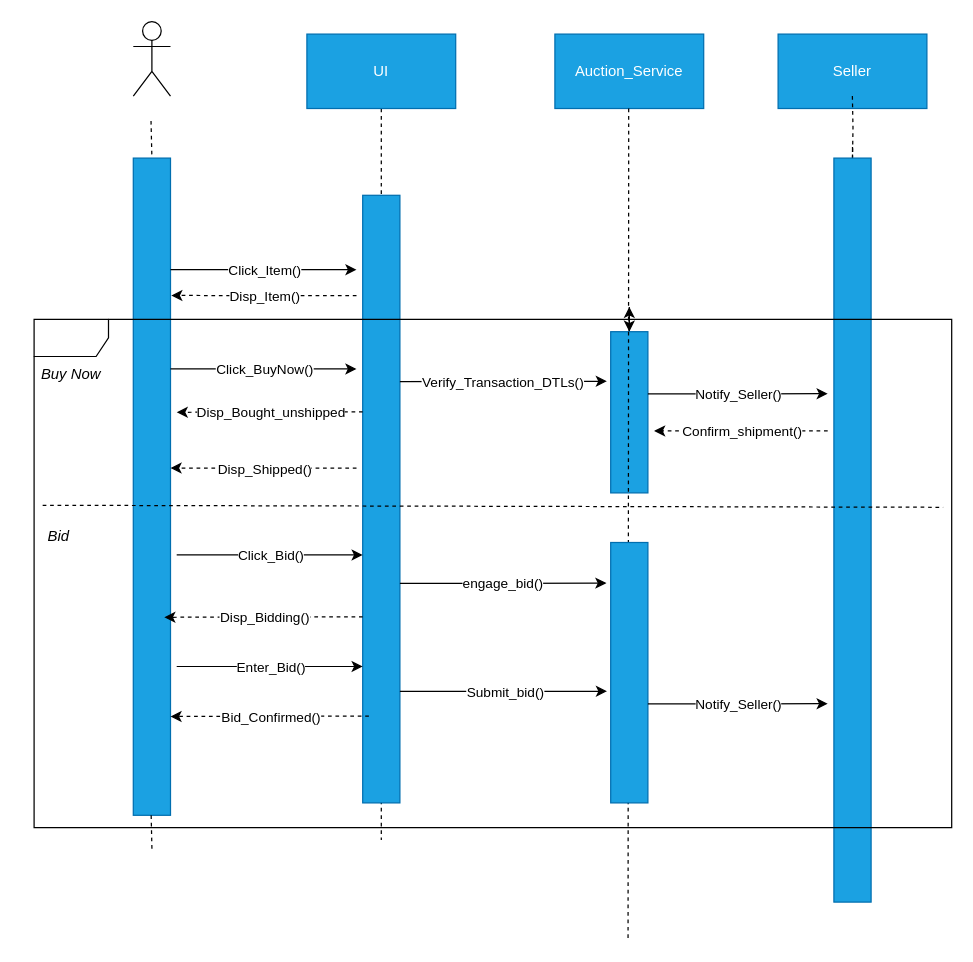
Some shapes in this 973 by 962 pixel diagram are drawn without their labels. Each missing label, with the box of its shape:
Alt: (33, 318, 952, 828)
User: (132, 20, 170, 96)
